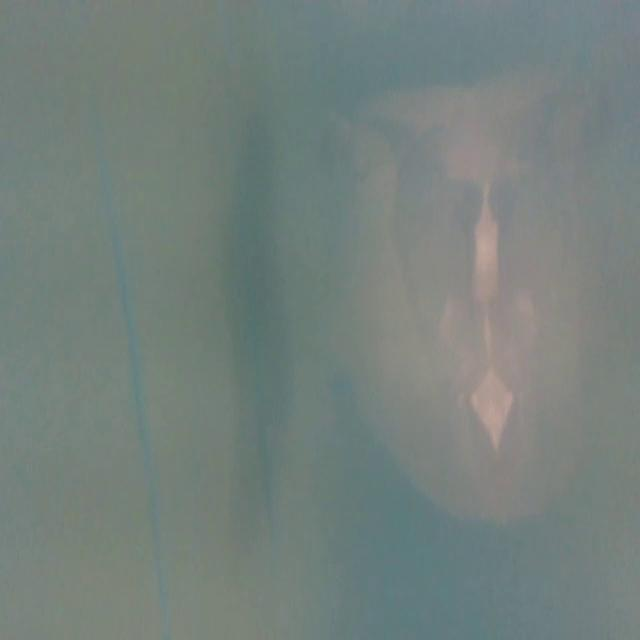plastic bags: (305, 60, 614, 538)
